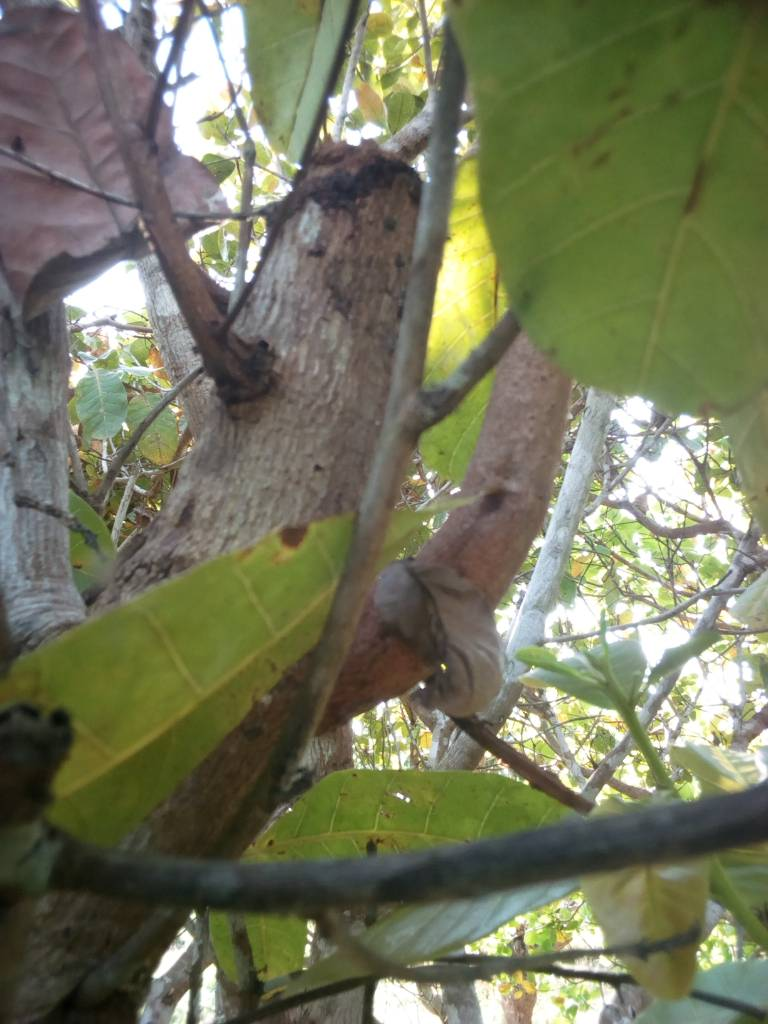Analepse trifasciata: (266, 130, 479, 241)
